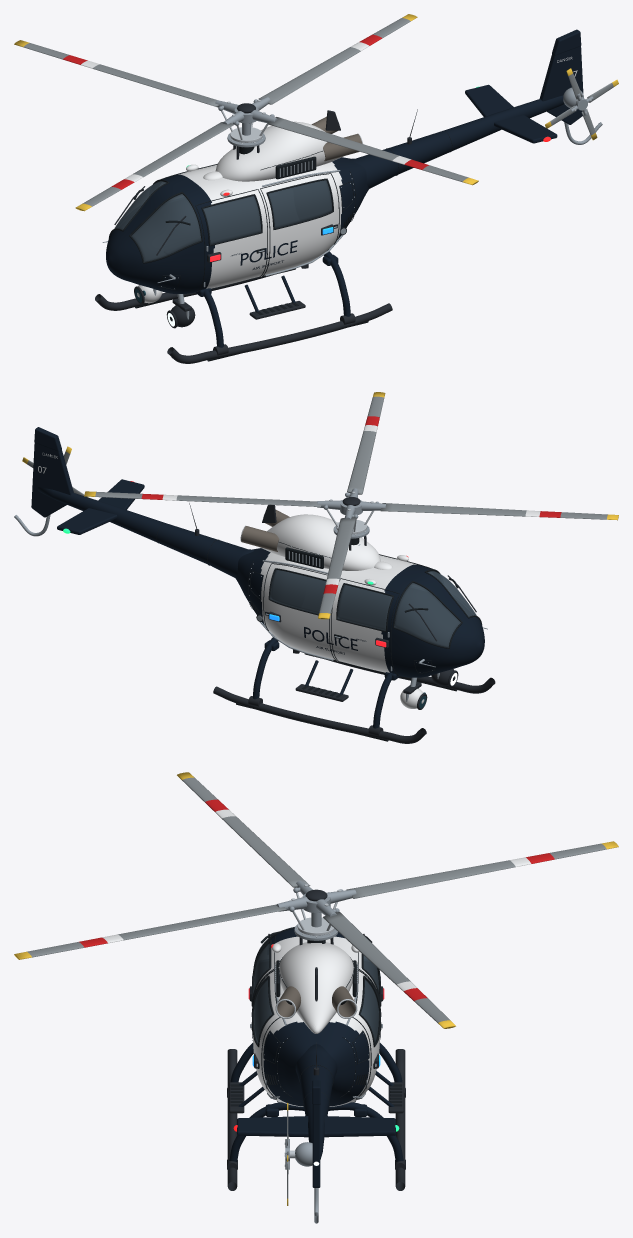
The model's file is helicopter.glb.
3 renders of one model, top to bottom at view 1: azimuth 30°, elevation 25°; view 2: azimuth 150°, elevation 25°; view 3: azimuth 270°, elevation 25°, orthographic. The views are drawn at different scales.
Parts seen in each view (by area): view 1: Airframe / continuous cabin shell with window openings, Tail / tapered monocoque boom, Engine / tapered upper cowling, Port / Windshield, Port / Cabin door glass, Port / Pilot door glass, Landing gear / skid tube -1, Main rotor / tapered blade 3, Tail / swept vertical stabilizer, Main rotor / tapered blade 0, Main rotor / tapered blade 2, Main rotor / tapered blade 1 (+10 smaller); view 2: Airframe / continuous cabin shell with window openings, Tail / tapered monocoque boom, Engine / tapered upper cowling, Starboard / Windshield, Tail / swept vertical stabilizer, Starboard / Pilot door glass, Starboard / Cabin door glass, Landing gear / skid tube 1, Main rotor / tapered blade 2, Main rotor / tapered blade 3, Main rotor / tapered blade 1, Main rotor / tapered blade 0 (+7 smaller); view 3: Airframe / continuous cabin shell with window openings, Engine / tapered upper cowling, Main rotor / tapered blade 1, Main rotor / tapered blade 0, Tail / tapered monocoque boom, Main rotor / tapered blade 3, Main rotor / tapered blade 2, Starboard / horizontal stabilizer, Port / horizontal stabilizer, Landing gear / continuous cross-tube 1.25, Landing gear / skid tube 1, Landing gear / skid tube -1 (+4 smaller).
Part boxes in pixels (bbox=[...]): Airframe / continuous cabin shell with window openings: bbox=[106, 157, 369, 293]; Tail / tapered monocoque boom: bbox=[349, 95, 564, 188]; Engine / tapered upper cowling: bbox=[215, 121, 343, 181]; Port / Windshield: bbox=[131, 193, 201, 262]; Port / Cabin door glass: bbox=[268, 180, 332, 228]; Port / Pilot door glass: bbox=[203, 195, 261, 244]; Landing gear / skid tube -1: bbox=[167, 303, 392, 363]; Main rotor / tapered blade 3: bbox=[267, 117, 478, 185]; Tail / swept vertical stabilizer: bbox=[539, 29, 583, 124]; Main rotor / tapered blade 0: bbox=[258, 14, 417, 104]; Main rotor / tapered blade 2: bbox=[75, 122, 234, 211]; Main rotor / tapered blade 1: bbox=[14, 40, 218, 106]; Airframe / continuous cabin shell with window openings: bbox=[235, 548, 484, 677]; Tail / tapered monocoque boom: bbox=[37, 487, 253, 577]; Engine / tapered upper cowling: bbox=[260, 514, 380, 570]; Starboard / Windshield: bbox=[394, 582, 460, 647]; Tail / swept vertical stabilizer: bbox=[31, 427, 73, 517]; Starboard / Pilot door glass: bbox=[337, 584, 392, 630]; Starboard / Cabin door glass: bbox=[270, 569, 326, 613]; Landing gear / skid tube 1: bbox=[213, 686, 426, 743]; Main rotor / tapered blade 2: bbox=[380, 503, 618, 520]; Main rotor / tapered blade 3: bbox=[347, 392, 385, 494]; Main rotor / tapered blade 1: bbox=[318, 517, 356, 619]; Main rotor / tapered blade 0: bbox=[84, 491, 321, 506]; Airframe / continuous cabin shell with window openings: bbox=[253, 928, 379, 1106]; Engine / tapered upper cowling: bbox=[279, 942, 353, 1033]; Main rotor / tapered blade 1: bbox=[346, 841, 618, 898]; Main rotor / tapered blade 0: bbox=[323, 912, 455, 1028]; Tail / tapered monocoque boom: bbox=[295, 1044, 337, 1159]; Main rotor / tapered blade 3: bbox=[14, 904, 286, 959]; Main rotor / tapered blade 2: bbox=[177, 772, 310, 887]; Starboard / horizontal stabilizer: bbox=[324, 1116, 395, 1137]; Port / horizontal stabilizer: bbox=[237, 1116, 308, 1137]; Landing gear / continuous cross-tube 1.25: bbox=[229, 1102, 403, 1161]; Landing gear / skid tube 1: bbox=[395, 1049, 405, 1190]; Landing gear / skid tube -1: bbox=[227, 1049, 237, 1190].
Size of what is drawn, in the model's own units: 12.79 by 4.43 by 9.87.
